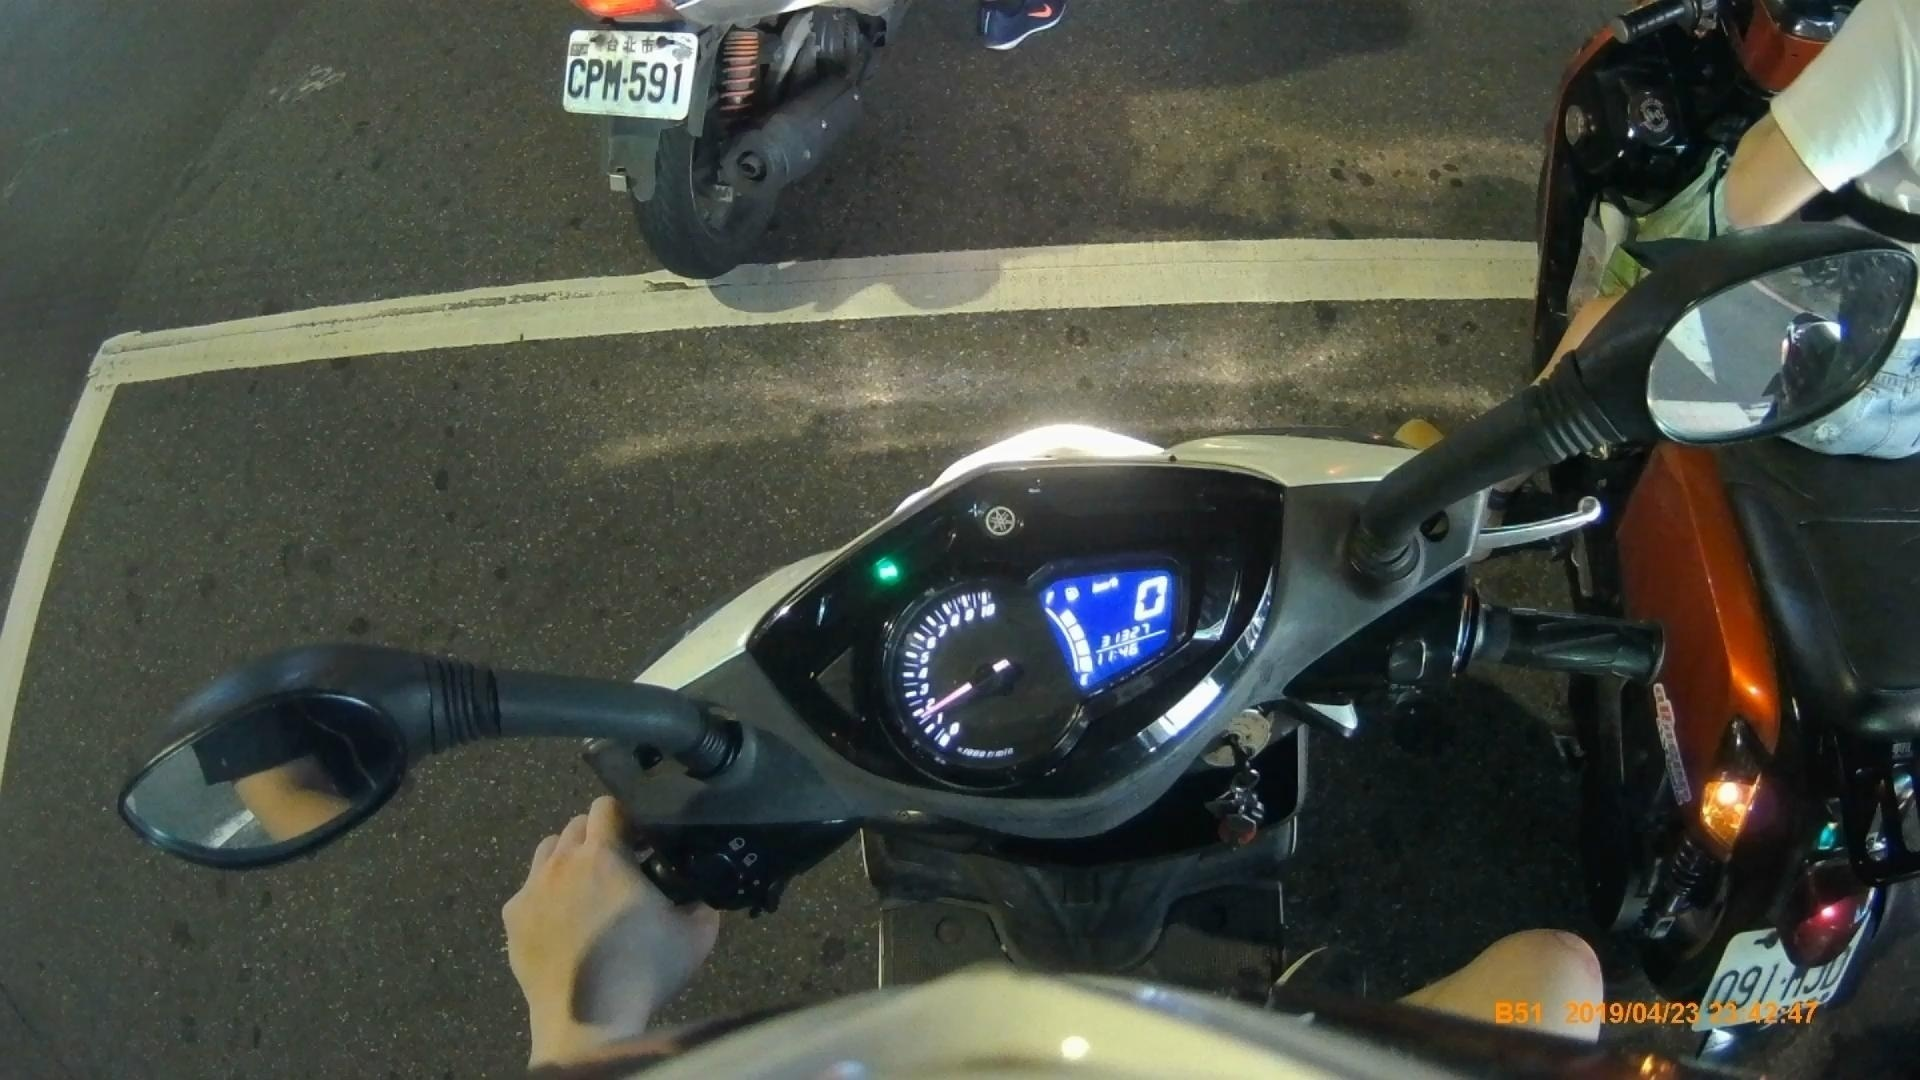License_plate: (564, 27, 691, 120)
